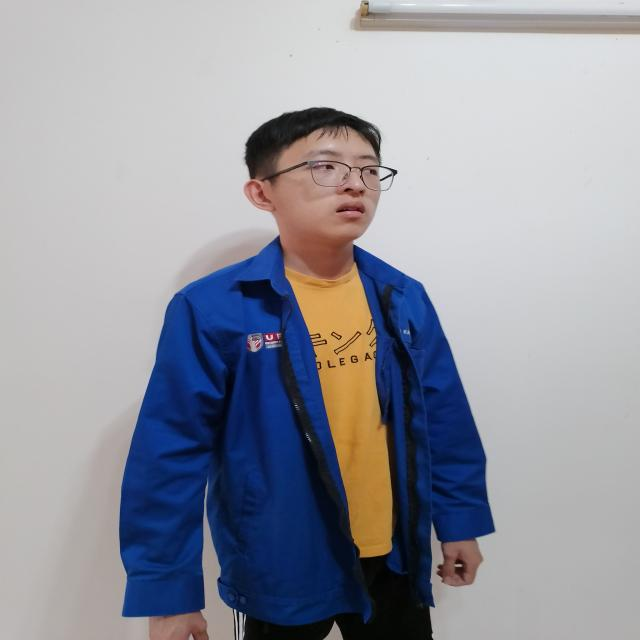person_with_labcoat: (121, 107, 493, 640)
